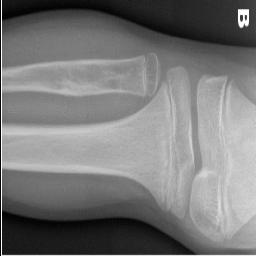cancer: (42, 58, 121, 98)
